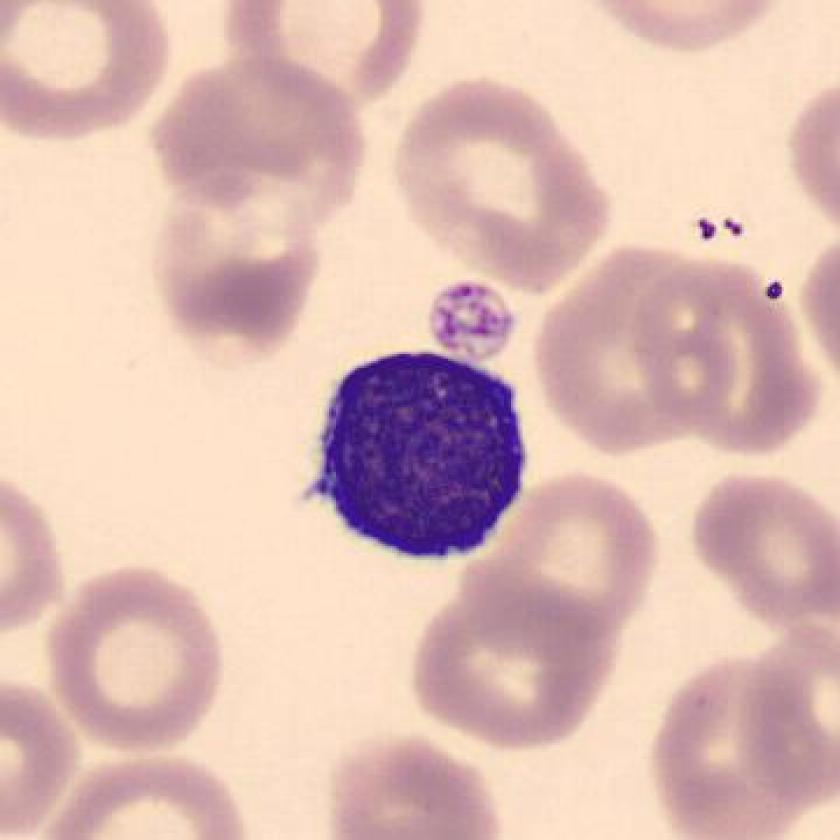lymphocyte: (295, 344, 556, 580)
